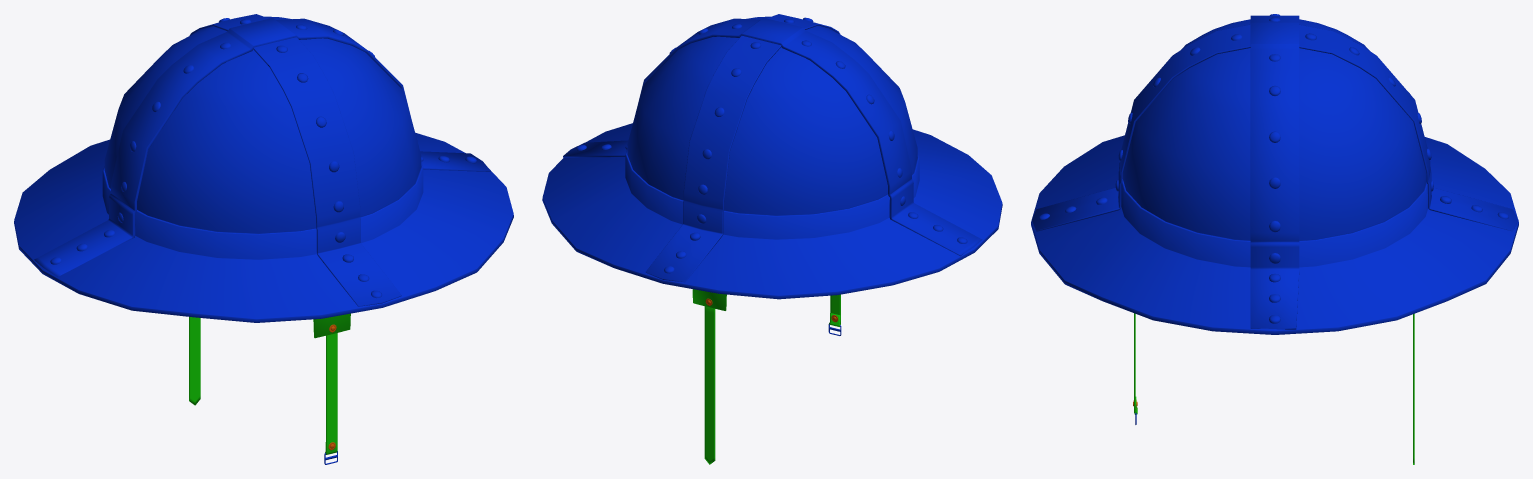
Rendered from Helmet.dae.
The picture shows the model from 3 angles, left to right: view 1: azimuth 30°, elevation 25°; view 2: azimuth 150°, elevation 25°; view 3: azimuth 270°, elevation 25°; orthographic projection. The views are drawn at different scales.
Visible parts, largest first — view 1: Cube.003 (×2); view 2: Cube.003 (×2); view 3: Cube.003 (×2).
Part boxes in pixels (box(x1,y1,x2,y2)): Cube.003 (×2): box(14, 14, 513, 464); Cube.003 (×2): box(542, 14, 1002, 464); Cube.003 (×2): box(1031, 14, 1518, 464).
Bounding box in the file's own units: 2 × 1.84 × 1.88.
